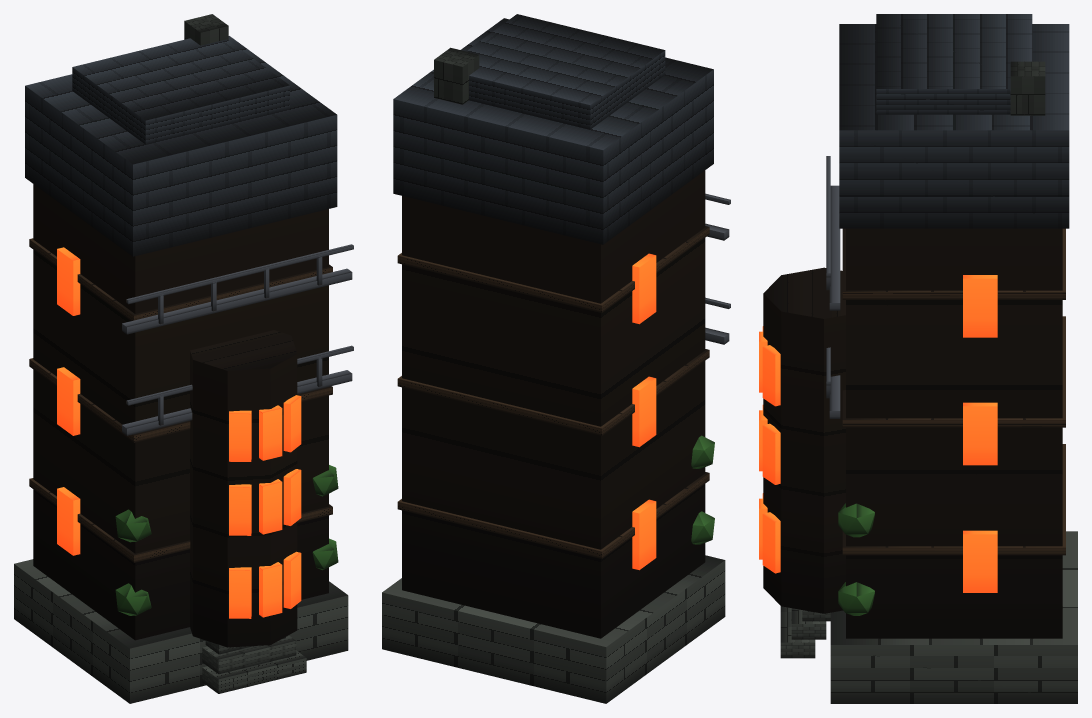
The model's file is townhouse.glb.
3 renders of one model, left to right at view 1: azimuth 30°, elevation 25°; view 2: azimuth 150°, elevation 25°; view 3: azimuth 270°, elevation 25°, orthographic. The views are drawn at different scales.
Visible parts, largest first — view 1: townhouse; view 2: townhouse; view 3: townhouse.
Part boxes in pixels (left/top/right/bottom): townhouse: left=14, top=14, right=353, bottom=703; townhouse: left=382, top=14, right=730, bottom=703; townhouse: left=759, top=14, right=1077, bottom=703.
Size of the model in its own units: 1.28 by 3.1 by 1.47.
Materials: 1 (1 with a texture image).
